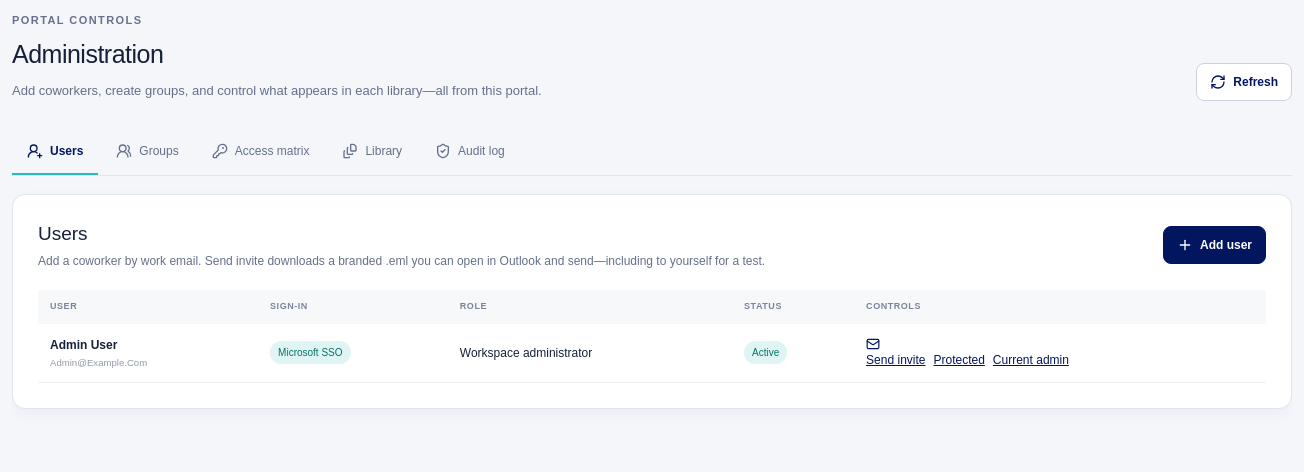
AdminPage access changes › still shows Qlik editor when a binding exists after HTML replace cleared dataset keys
Click the tab "Library".
click(372, 152)  # box 327,128 -> 417,174
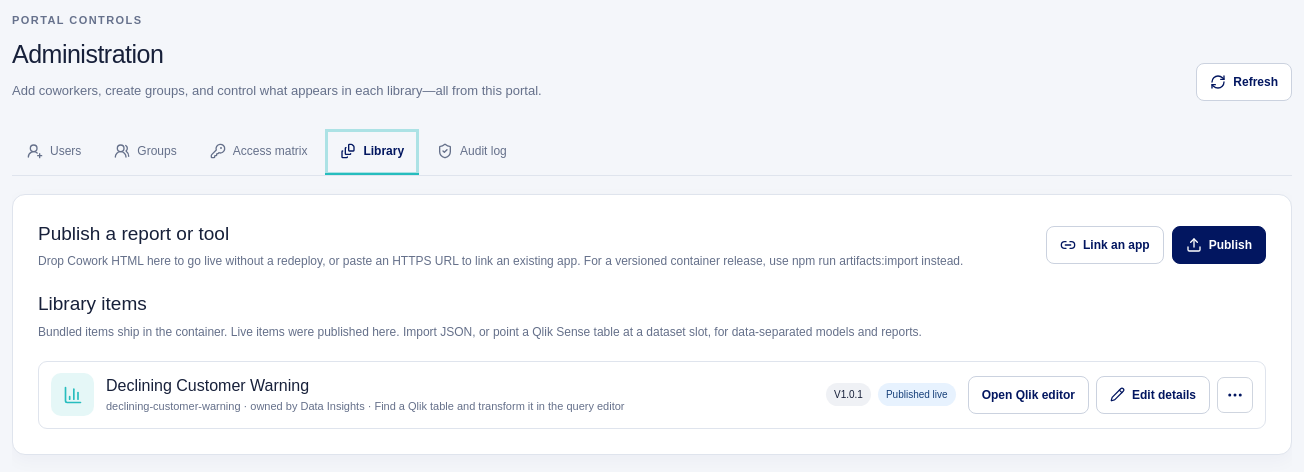
Check: the link "Open Qlik editor" is shown, box 968,376 -> 1089,414
